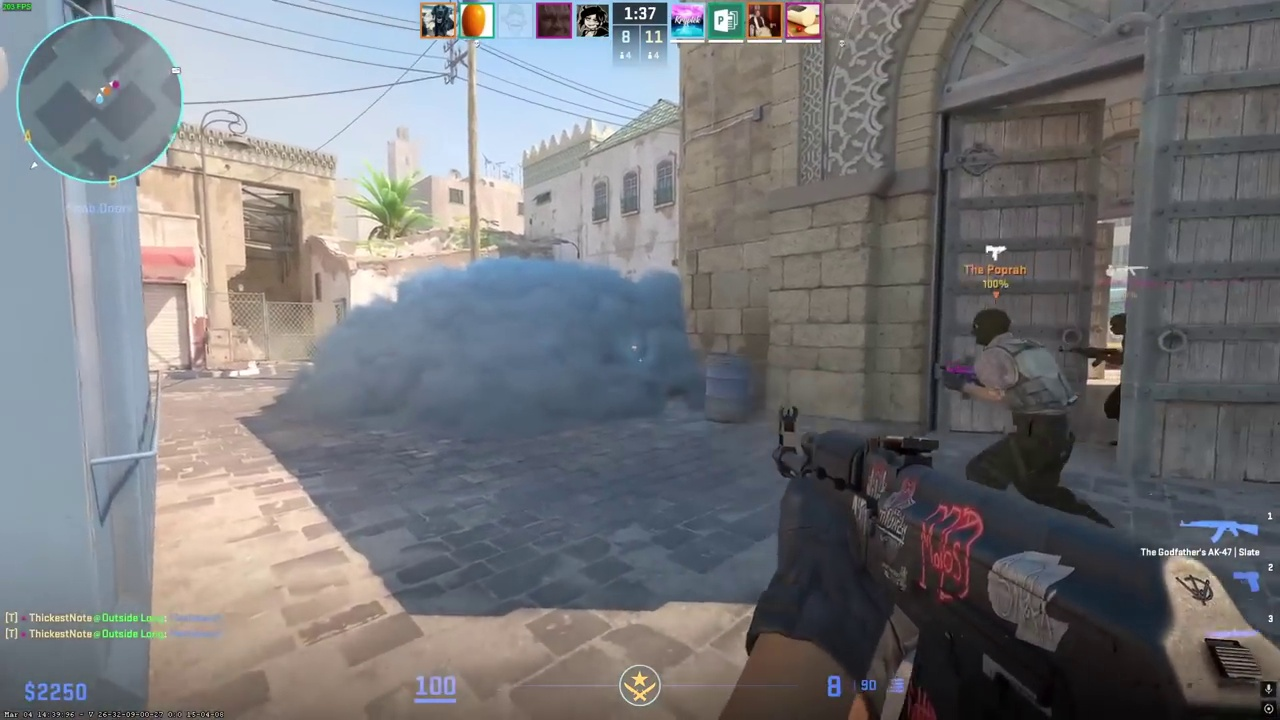Terrorist: (960, 306, 1093, 527), (1100, 307, 1124, 434)
